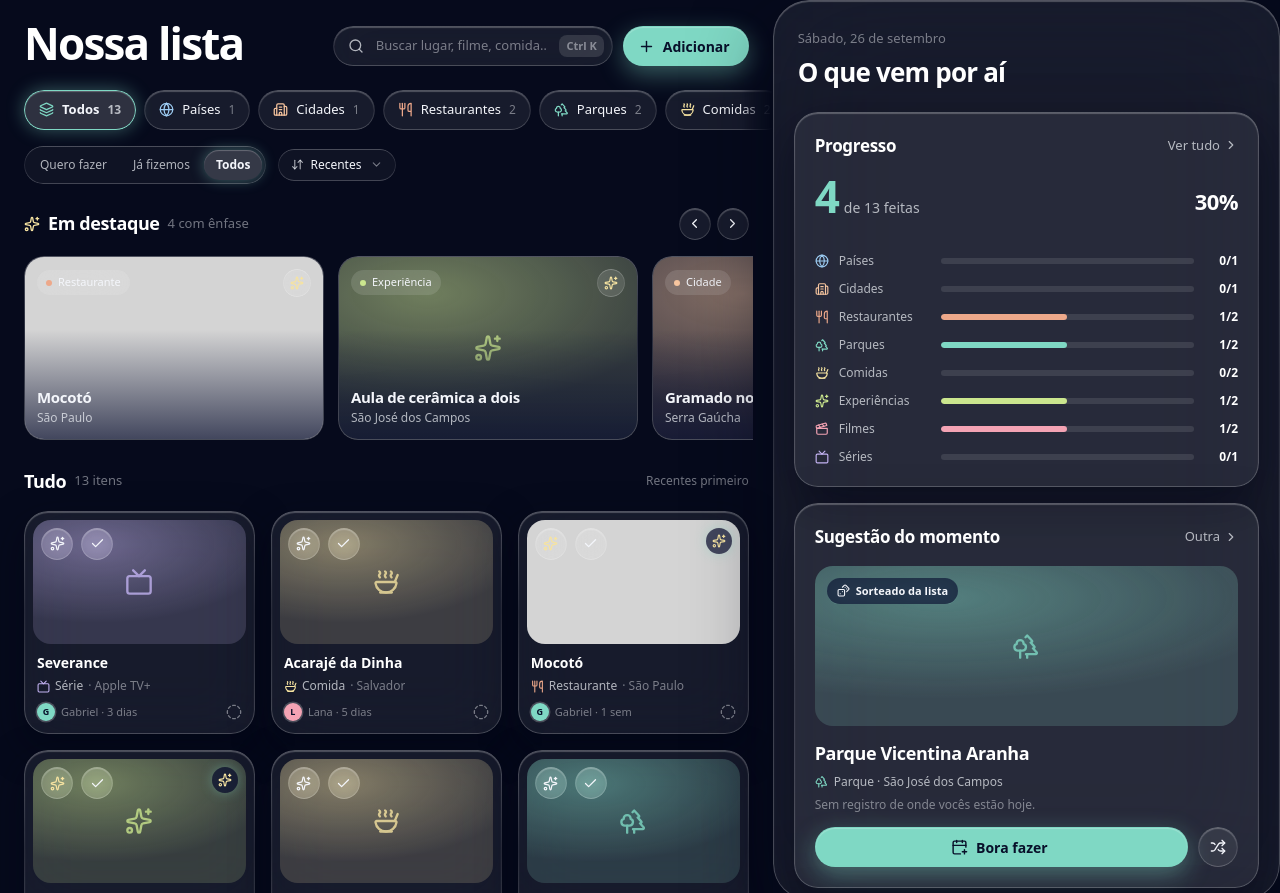
Test: A13 — chips, filtros, estado sem resultado › "Quem" só aparece com "Já fizemos" e filtra por quem estava
Expected: the element named "Categorias" is shown, top-left (24, 90), bottom-right (773, 130)
Expected: the element "Quem" is not shown
Click the button "Já fizemos". click: click(161, 165)
box: top-left (121, 150), bottom-right (202, 180)
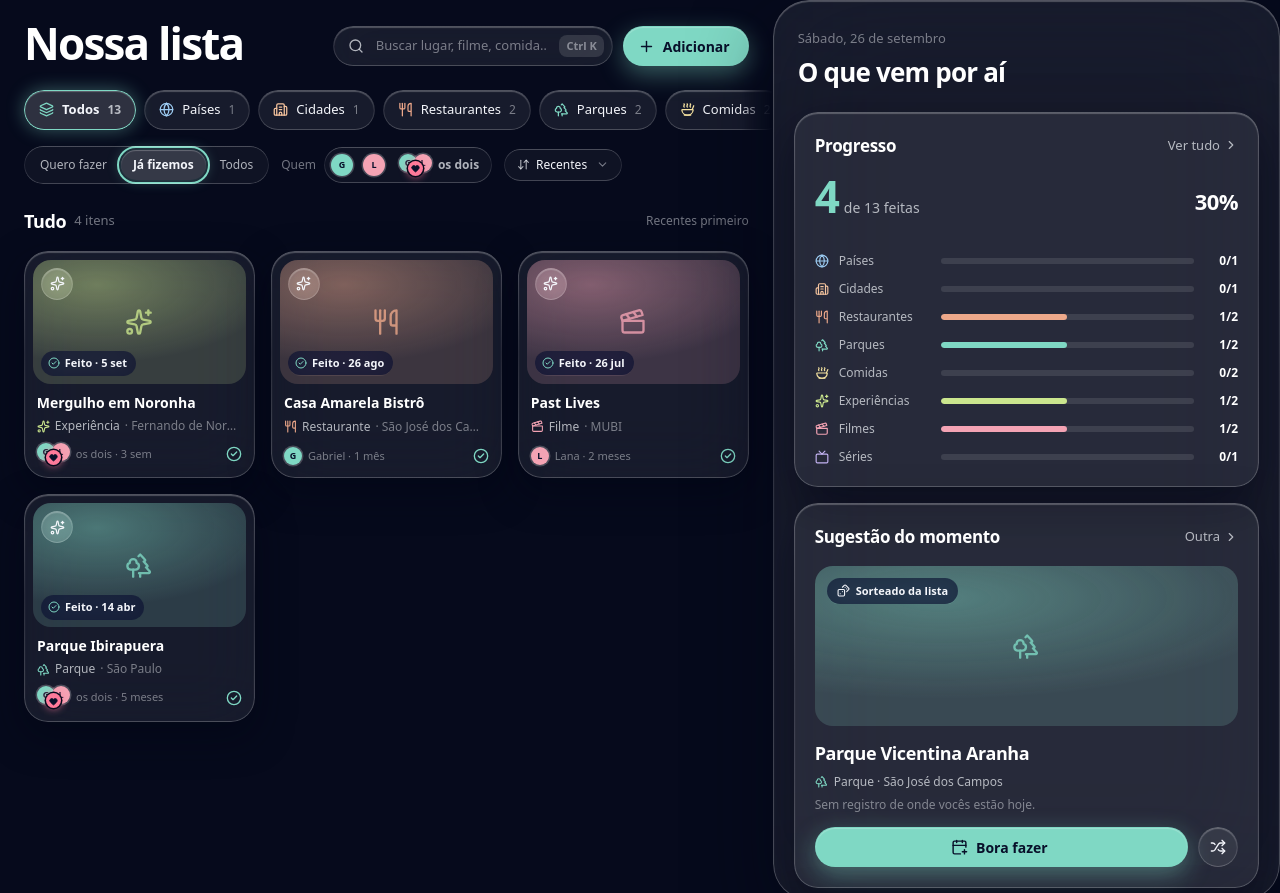
Click the button named "Lana". click: click(374, 165)
box: top-left (360, 151), bottom-right (388, 179)
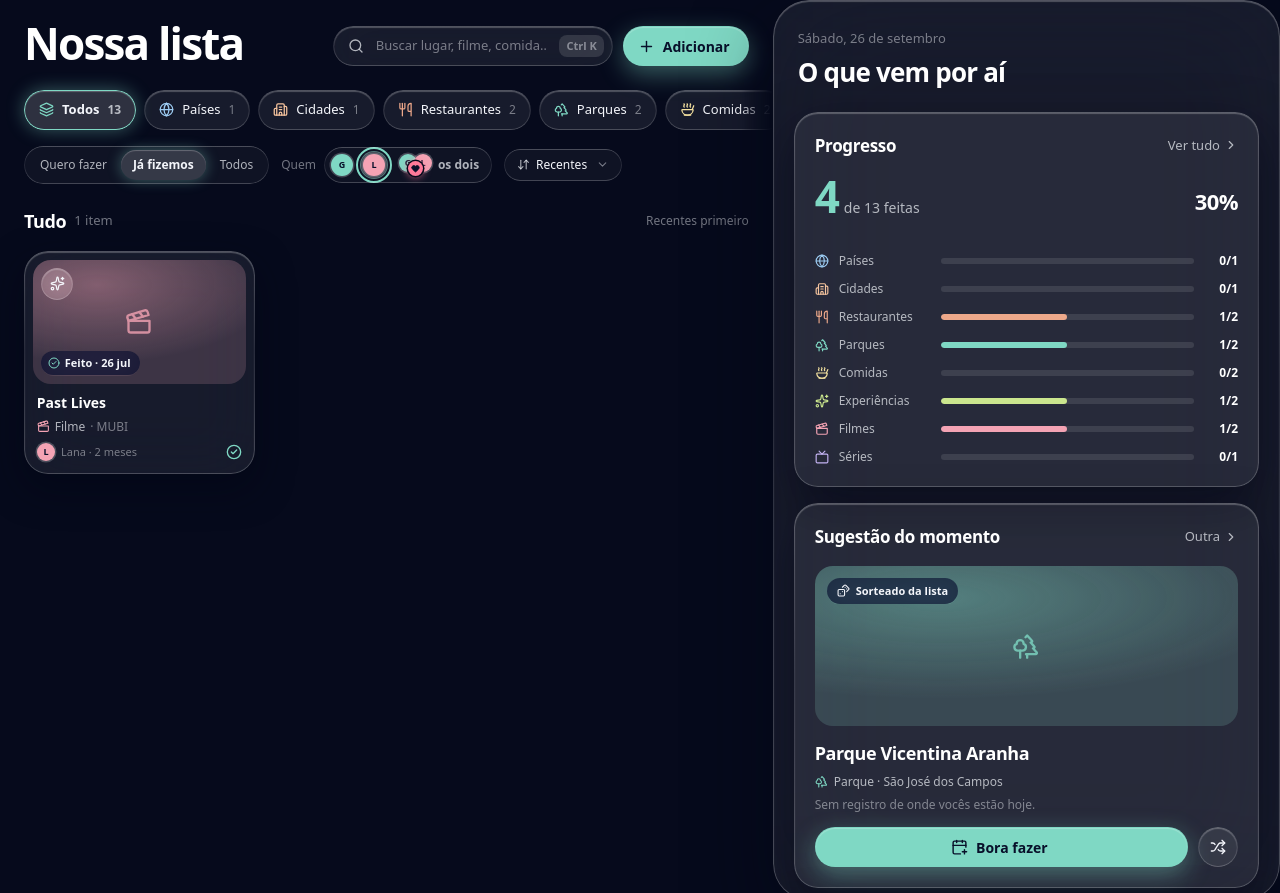
Click the button with aria-label "♥ os dois". click: click(440, 165)
box: top-left (392, 151), bottom-right (488, 179)
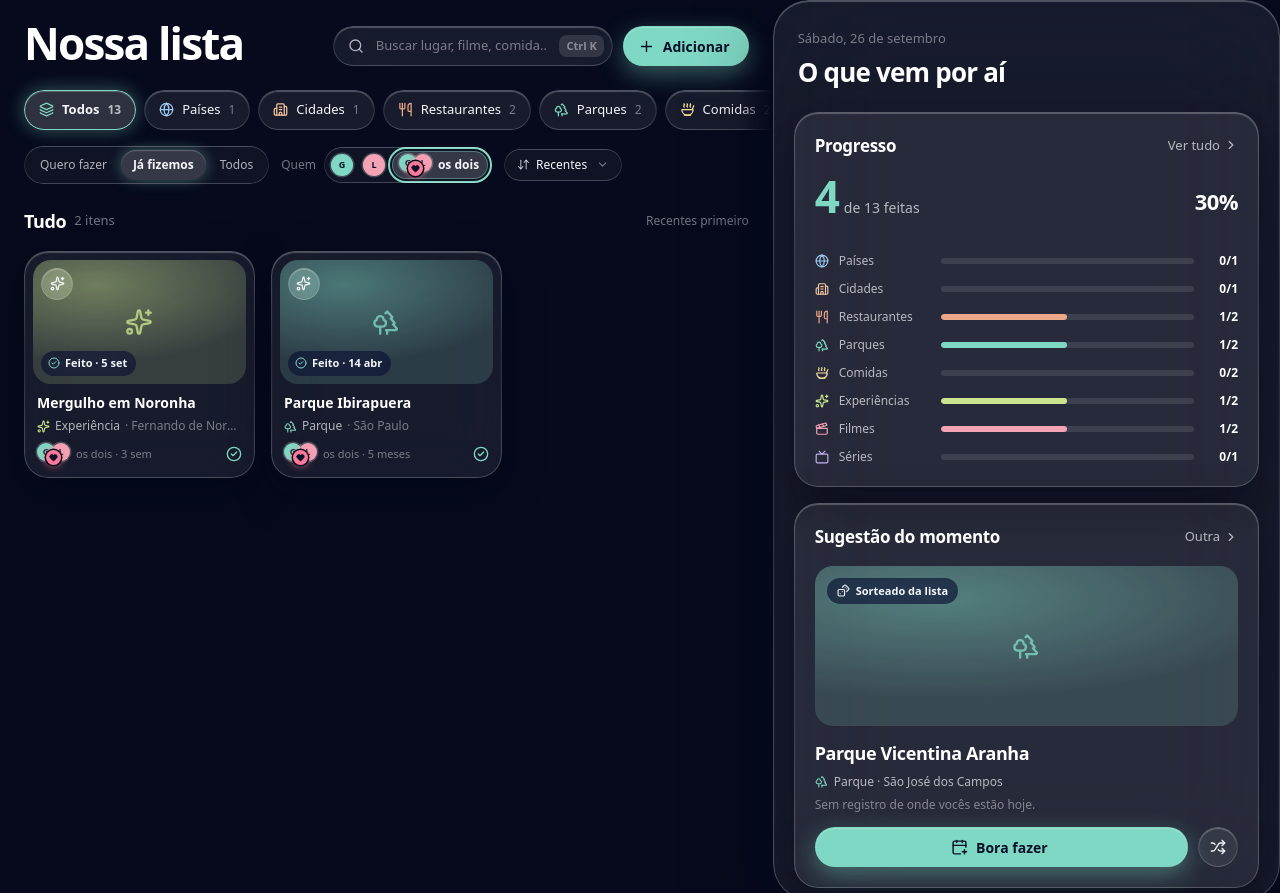
Click the button "Quero fazer". click: click(73, 165)
box: top-left (28, 150), bottom-right (119, 180)
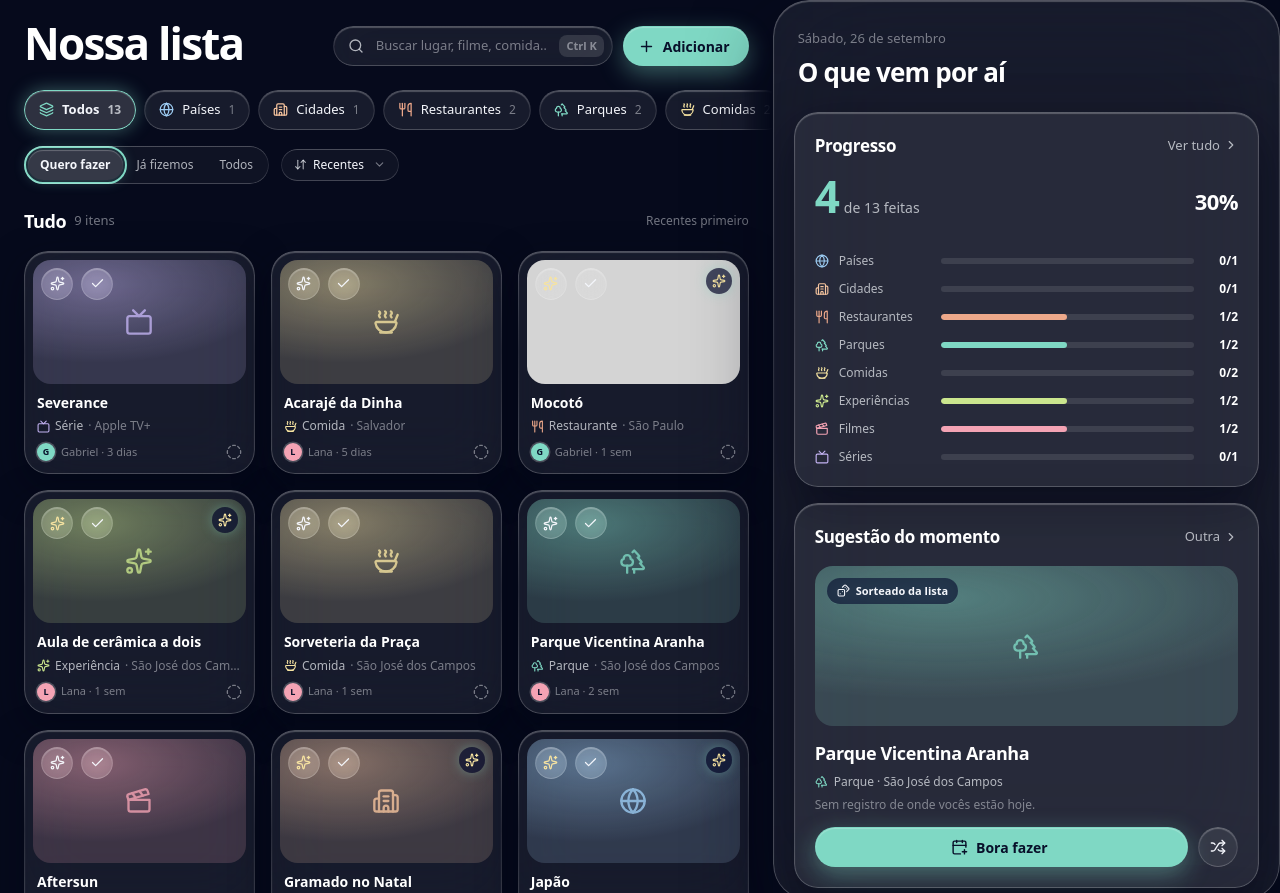
Expected: the text "Quem" is gone
